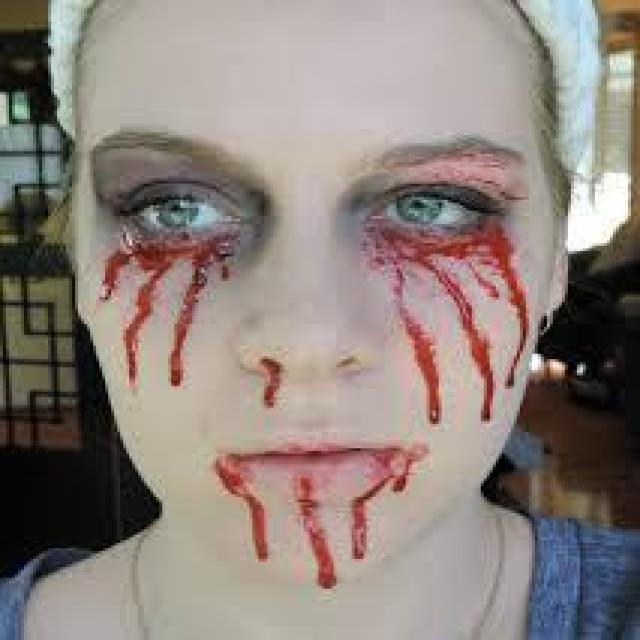flood: (360, 210, 538, 428), (200, 460, 426, 586), (89, 221, 244, 394)
